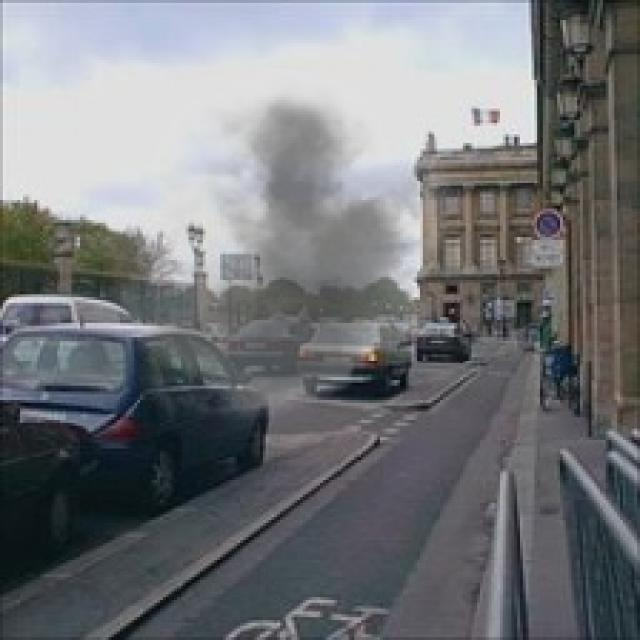smoke: (74, 66, 469, 437)
